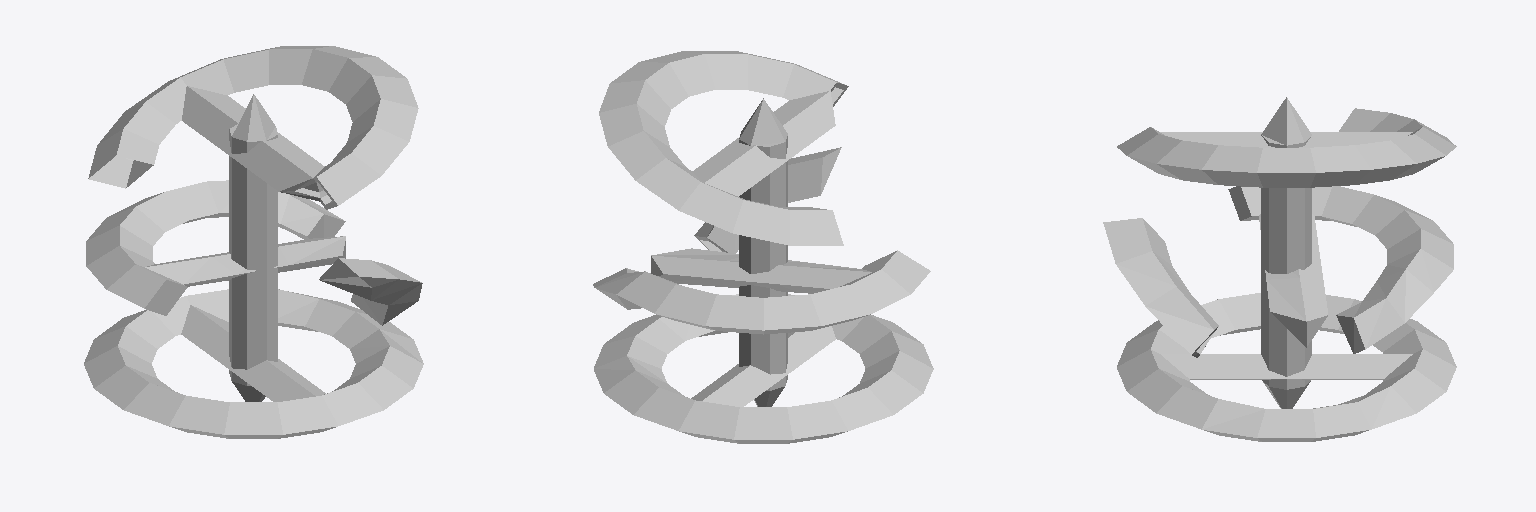
The model's file is station.obj.
3 views of the same model, side by side, from view 1: azimuth 30°, elevation 25°; view 2: azimuth 150°, elevation 25°; view 3: azimuth 270°, elevation 25° (orthographic).
Visible parts, largest first — view 1: station_Cube.001; view 2: station_Cube.001; view 3: station_Cube.001.
Part boxes in pixels (bbox=[...]): station_Cube.001: bbox=[84, 46, 423, 438]; station_Cube.001: bbox=[593, 51, 933, 443]; station_Cube.001: bbox=[1103, 97, 1456, 441].
Bounding box in the file's own units: 247 × 259 × 258.